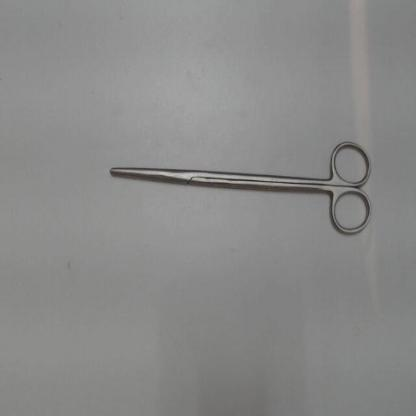9 Metzenbaum Scissors: (105, 133, 375, 240)
